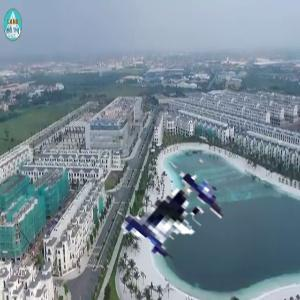drone: (62, 108, 243, 289)
